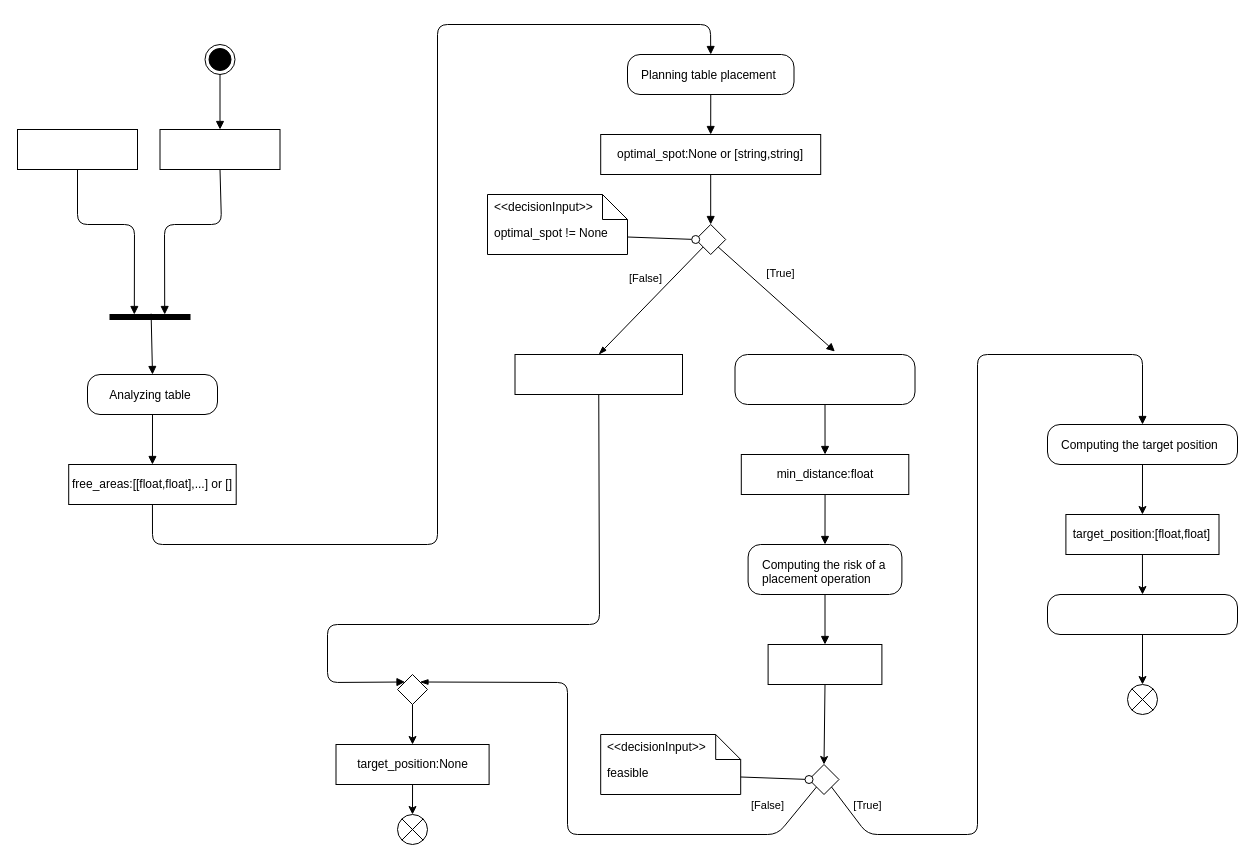
This 1255x862 diagram has some shape labels left out. Each missing label, with the centre of its shape:
"<<data store>> dish dimensions" goes at point 77,149.
"Computing minimal distance with object on the table" goes at point 824,379.
"feasible:bool" goes at point 824,664.
"feasible:bool = False" goes at point 598,374.
"perception data" goes at point 219,149.
"Publishing the target position" goes at point 1142,614.
